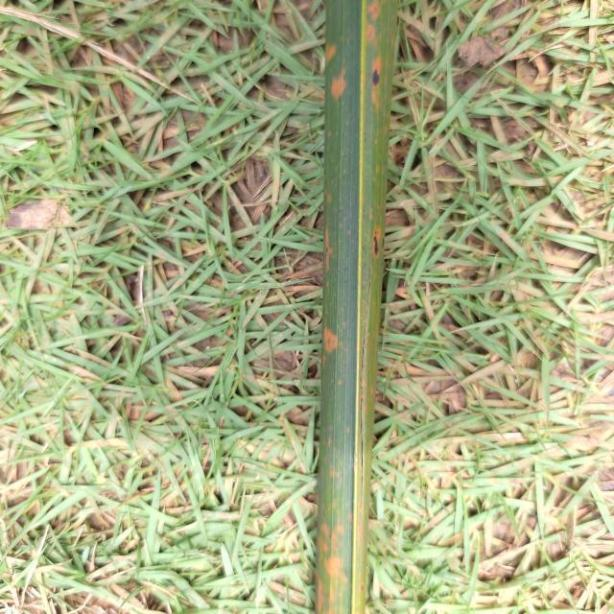Kalium: (310, 0, 403, 614)
